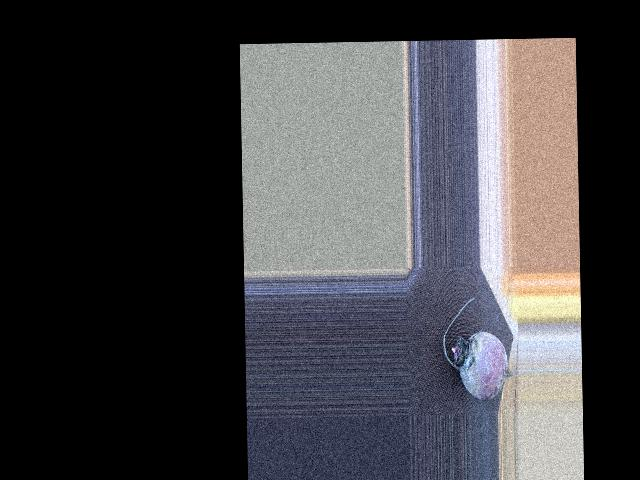beet: (441, 297, 519, 401)
